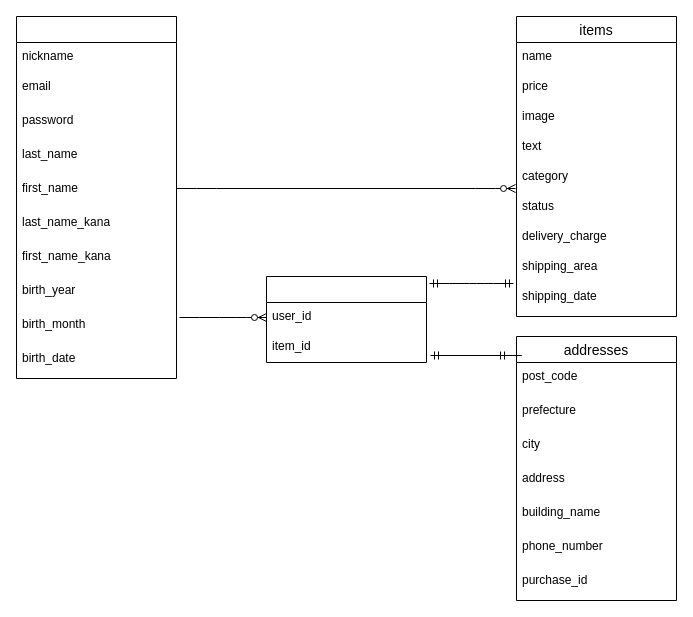
This 693x617 diagram has some shape labels left out. Each missing label, with the box of its shape:
purchases: (266, 276, 426, 362)
users: (16, 16, 176, 378)
